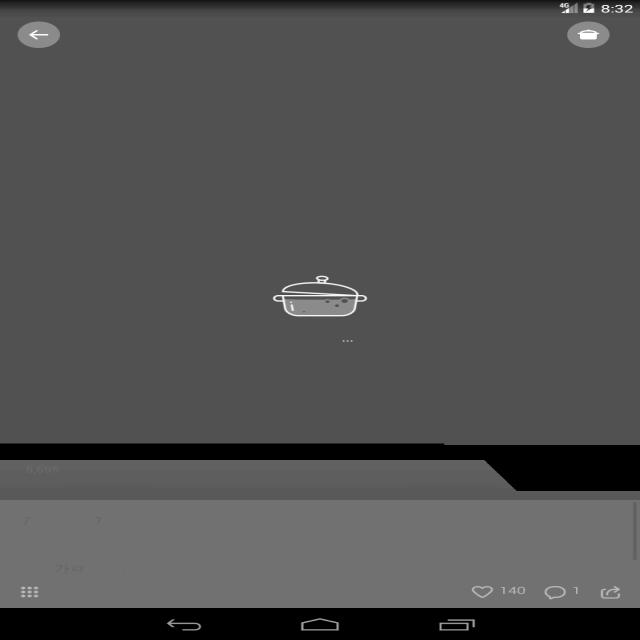ImageButton: (550, 22, 622, 52), (13, 20, 62, 50)
ImageView: (259, 276, 403, 325)
